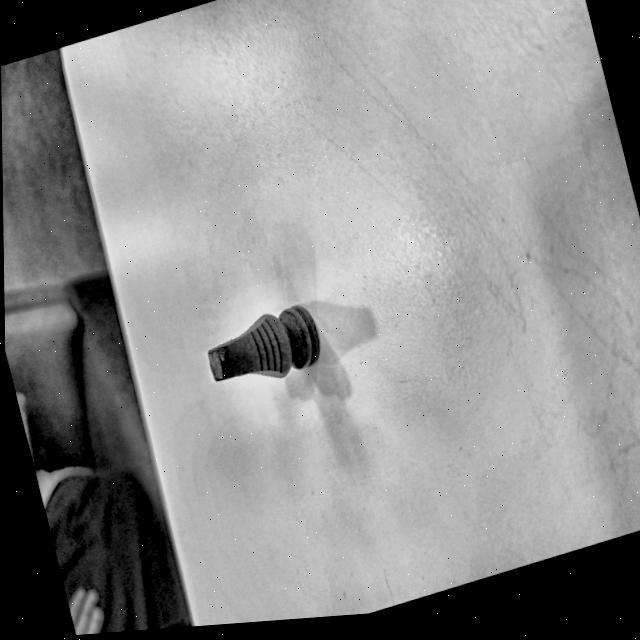black-knight: (206, 305, 319, 381)
